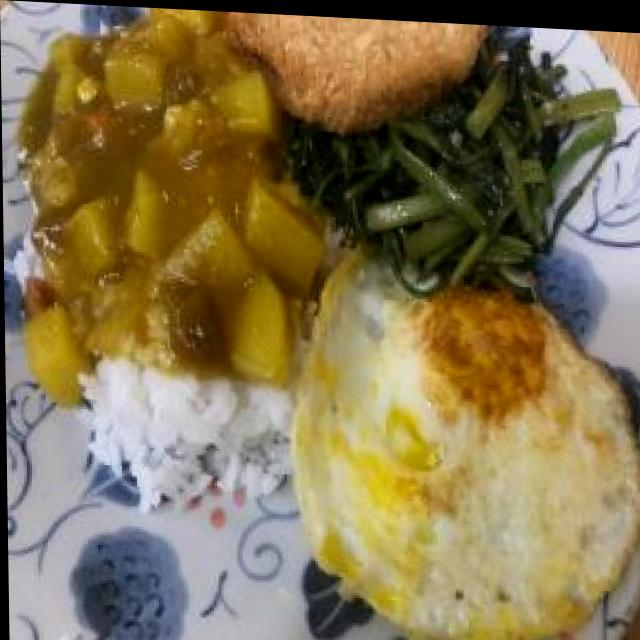curry: (17, 1, 301, 374)
fried_eggs: (293, 240, 637, 640)
rice: (87, 356, 294, 520)
water_spinach: (315, 26, 601, 260)
